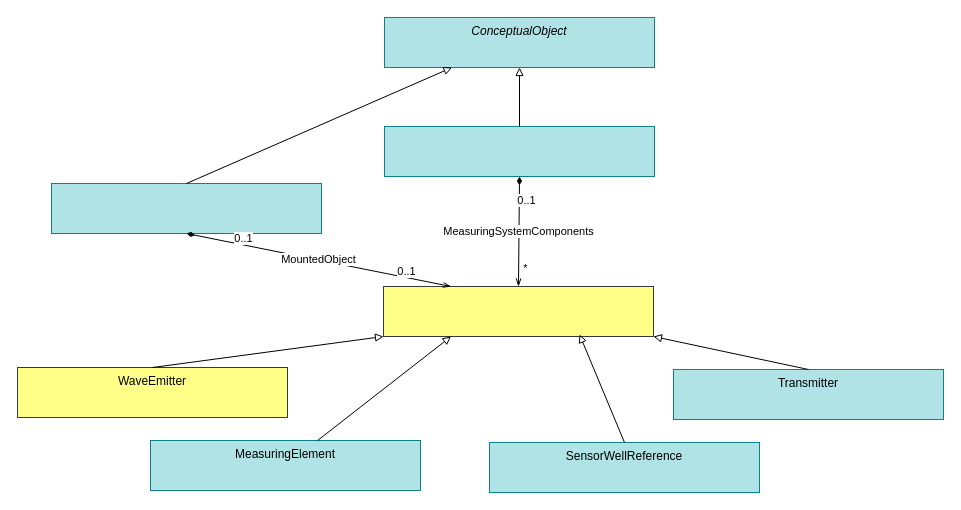
Some shapes in this 961 by 510 pixel diagram are drawn without their labels. The centre of each missing label's shape, as x and y in pixels:
MeasuringSystem: the point at 519,151
MeasuringSystemComponent: the point at 518,311
Mount: the point at 186,208
